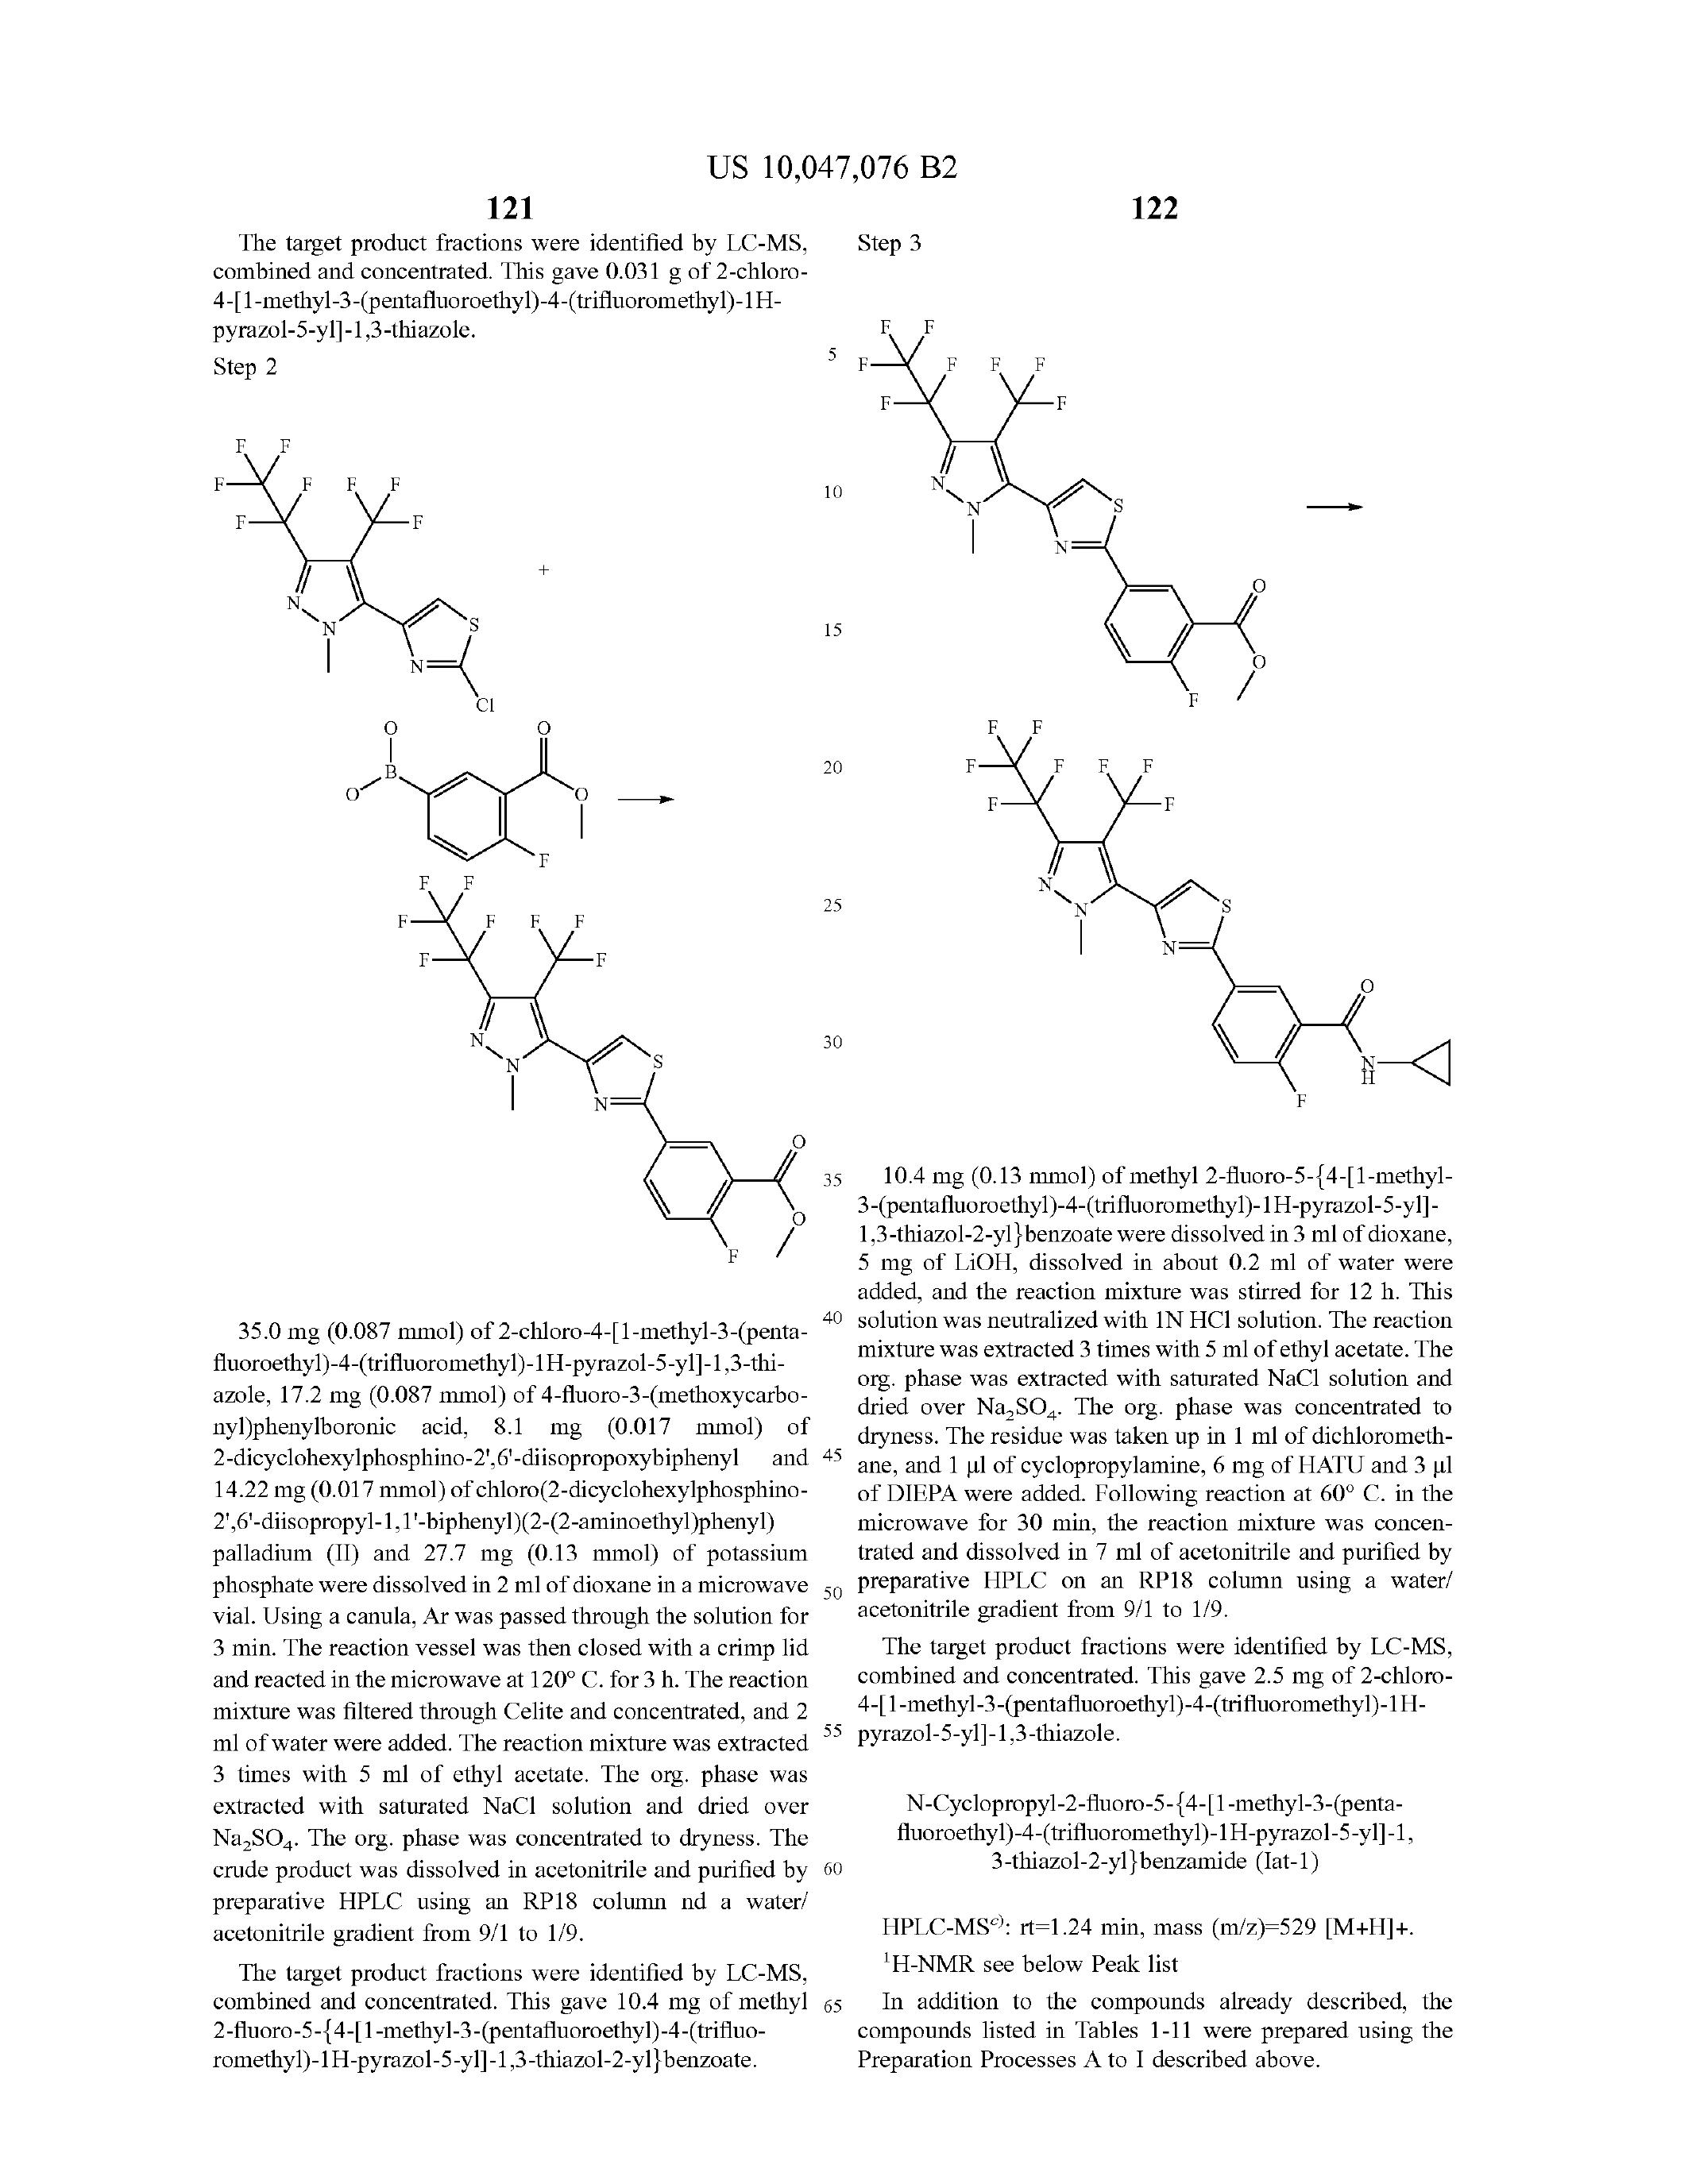intermediates: (332, 879, 809, 1267)
